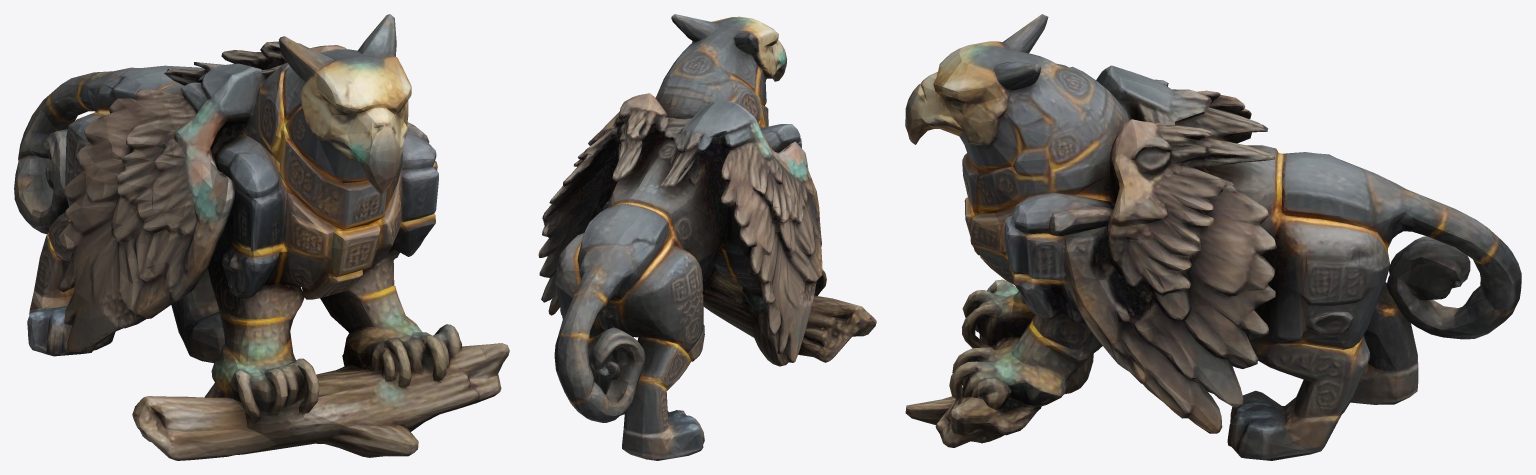
Rendered from windhollowGuardian.glb.
3 views of the same model, side by side, from view 1: azimuth 30°, elevation 25°; view 2: azimuth 150°, elevation 25°; view 3: azimuth 270°, elevation 25° (orthographic). The views are drawn at different scales.
Visible parts, largest first — view 1: world; view 2: world; view 3: world.
Boxes of the visible parts, <box> form: world: <box>14,14,509,460</box>; world: <box>538,14,876,460</box>; world: <box>905,14,1521,460</box>.
Bounding box in the file's own units: 0.6163 × 0.7167 × 0.9999.
1 material, 1 textured.
